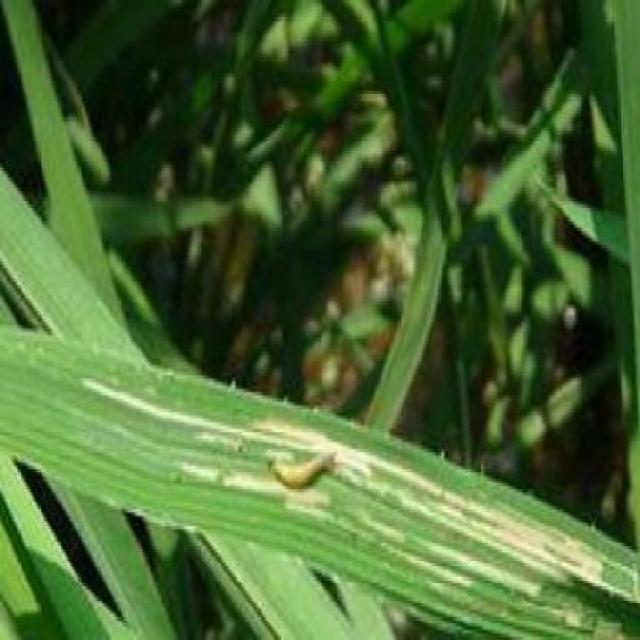leaf-folder: (265, 424, 340, 498)
